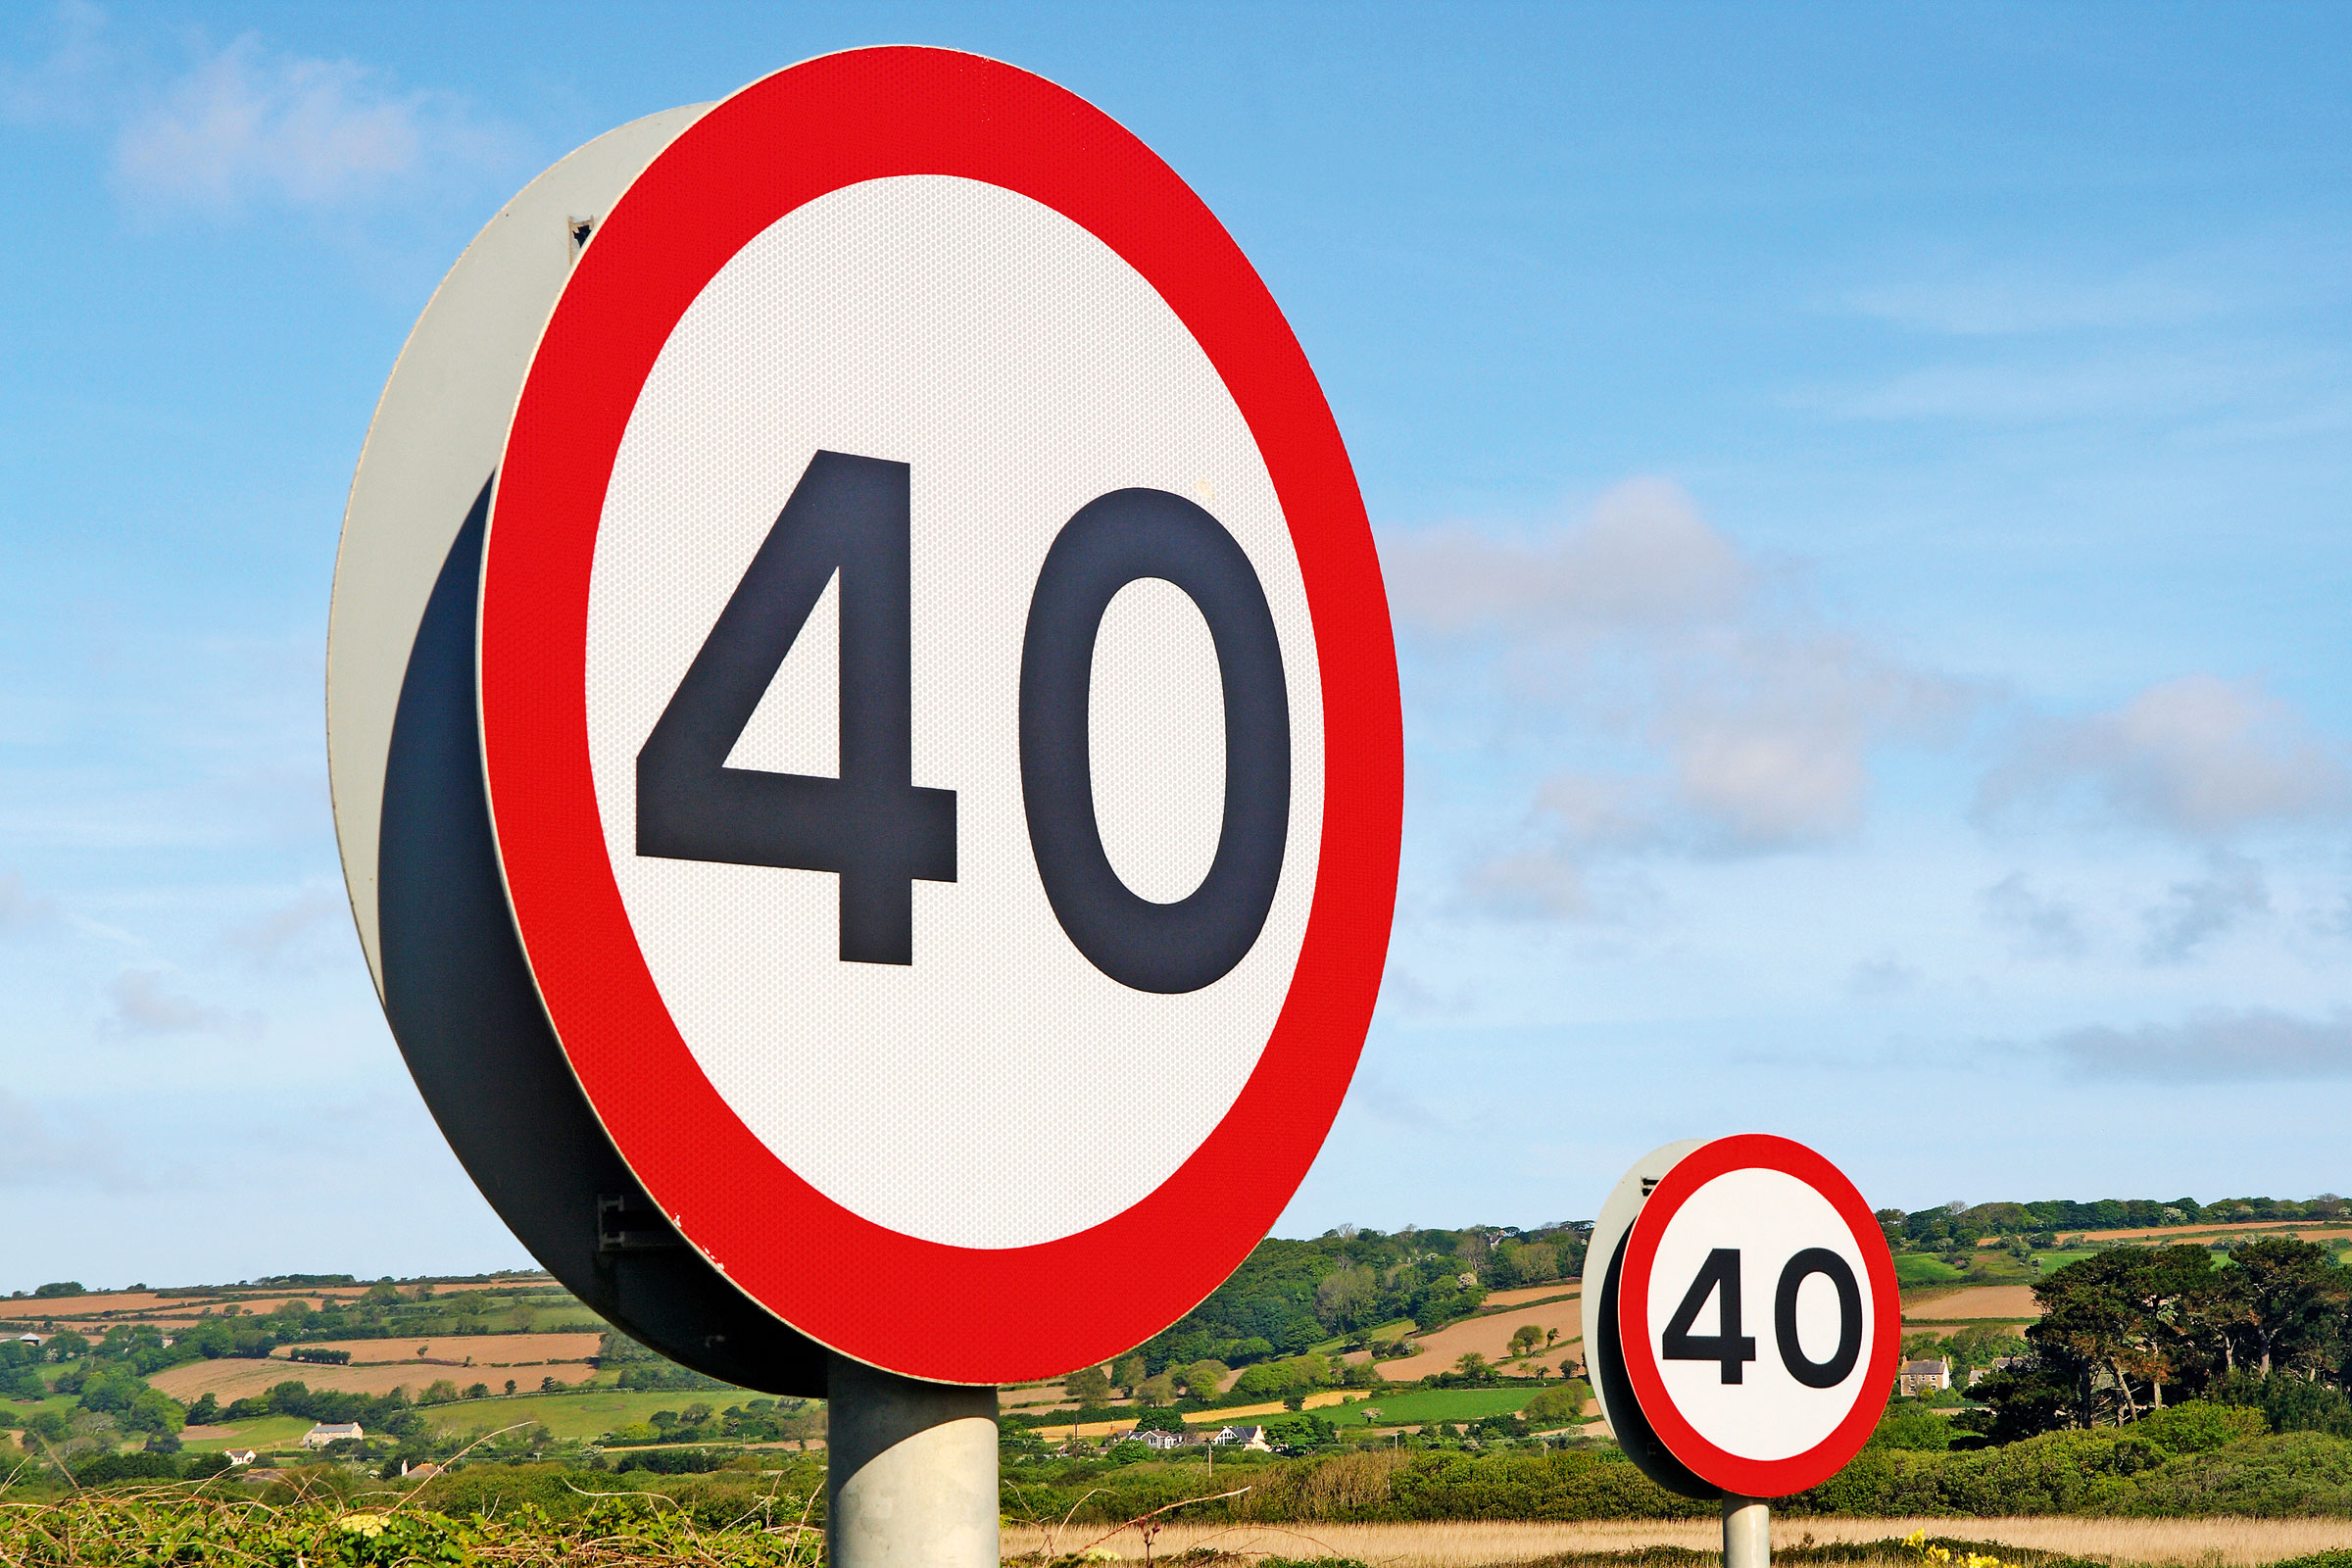Speed_limit_40km: (502, 51, 1409, 1391), (1580, 1129, 1928, 1519)
